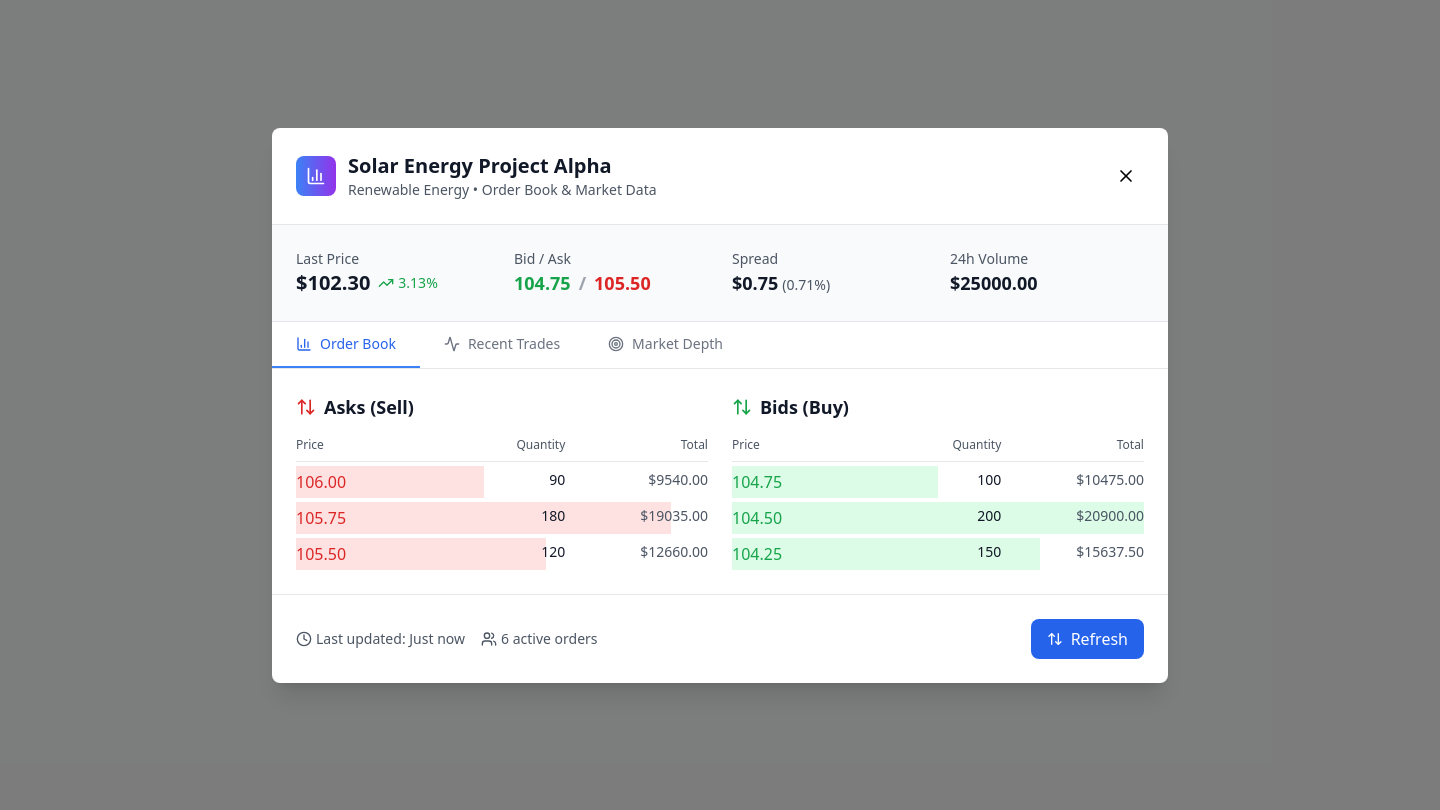
Scenario: OrderBookModal › switches to recent trades tab
The image size is (1440, 810).
# Find the tab button specifically (first occurrence should be the tab)
Click the button "Recent Trades" at (502, 344), box [420,322,584,368]
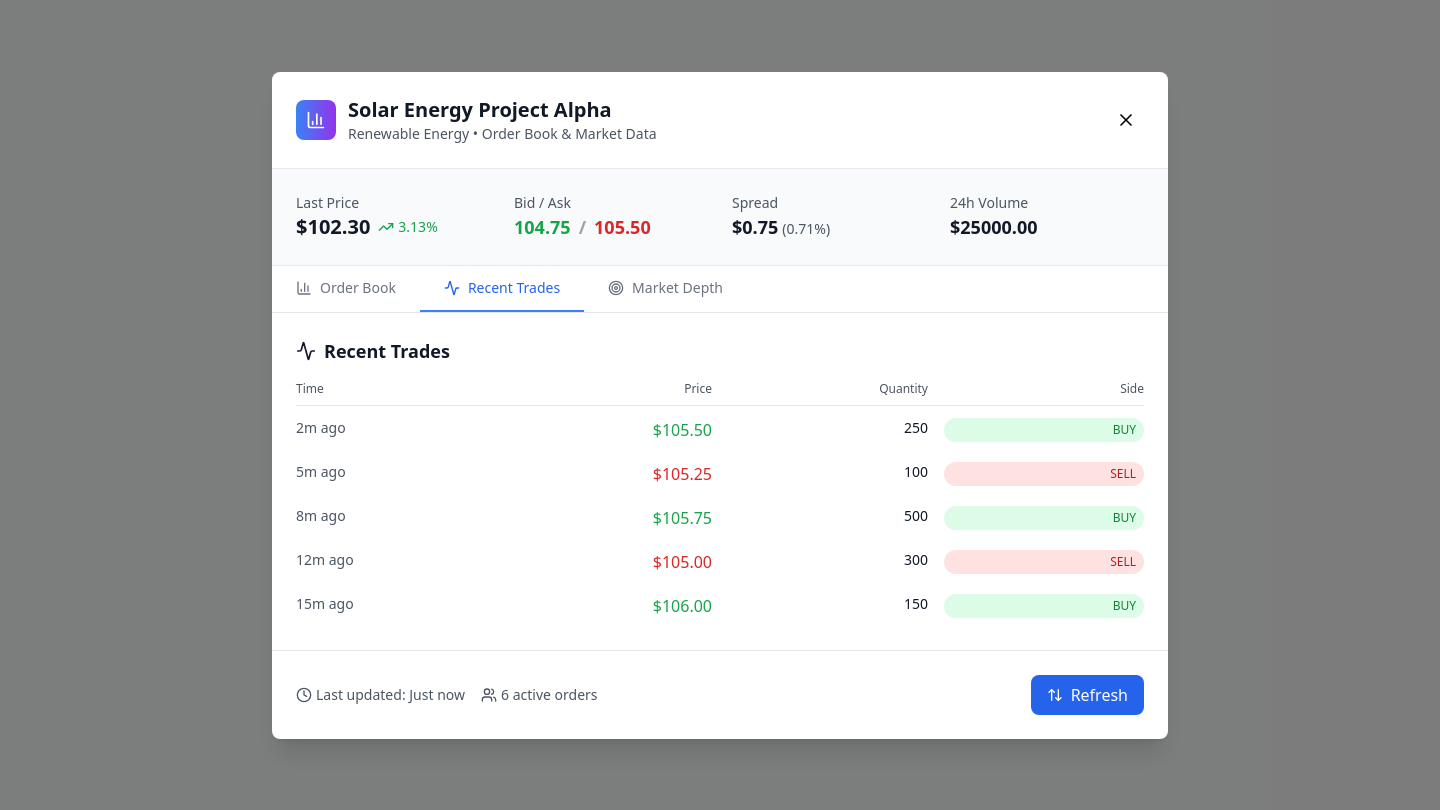
Now the text "Recent Trades" is shown 2 times, box [468,278,560,298]; [296,338,450,362]
